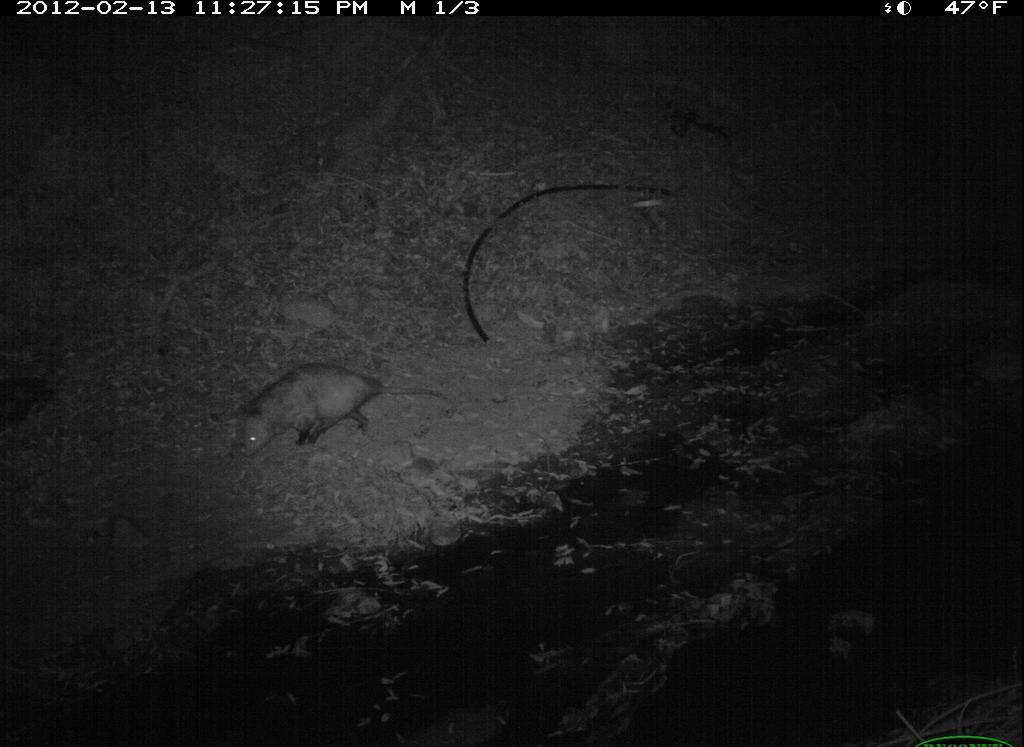opossum: (228, 358, 454, 468)
